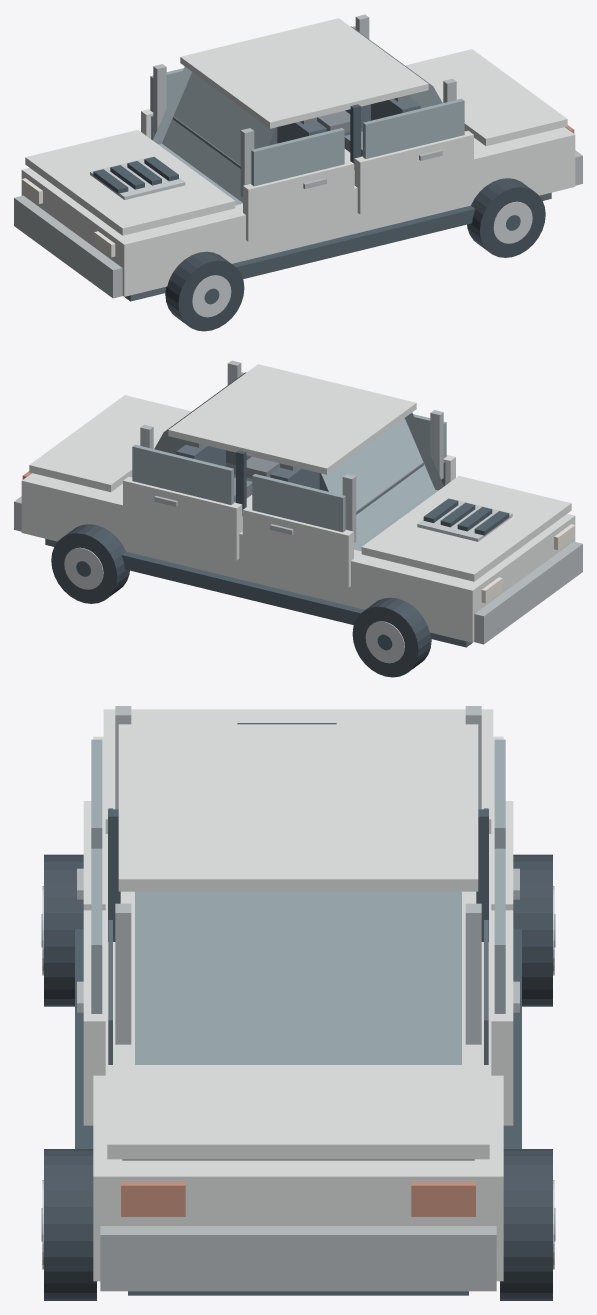
File: apex-sedan-inspection.glb
The picture shows the model from 3 angles, top to bottom: view 1: azimuth 30°, elevation 25°; view 2: azimuth 150°, elevation 25°; view 3: azimuth 270°, elevation 25°; orthographic projection. The views are drawn at different scales.
Visible parts, largest first — view 1: SURFACE_BODY, SURFACE_ROOF, SURFACE_HOOD_OUTER, WINDOW_FRONT, SURFACE_TRUNK_OUTER, SURFACE_DOOR_RL_OUTER, SURFACE_DOOR_FL_OUTER, SIDE_SILL_L, BUMPER_FRONT, WINDOW_DOOR_RL, TIRE_FL, WINDOW_DOOR_FL (+13 smaller); view 2: SURFACE_BODY, SURFACE_ROOF, SURFACE_HOOD_OUTER, WINDOW_FRONT, SURFACE_TRUNK_OUTER, SURFACE_DOOR_RR_OUTER, SURFACE_DOOR_FR_OUTER, SIDE_SILL_R, BUMPER_FRONT, WINDOW_DOOR_RR, TIRE_FR, WINDOW_DOOR_FR (+14 smaller); view 3: SURFACE_ROOF, WINDOW_REAR, SURFACE_TRUNK_OUTER, SURFACE_BODY, BUMPER_REAR, SURFACE_HOOD_OUTER, TIRE_RL, TIRE_RR, TIRE_FL, TIRE_FR, SURFACE_DOOR_RL_OUTER, SURFACE_DOOR_RR_OUTER (+15 smaller).
Part boxes in pixels (bbox=[...]): SURFACE_BODY: bbox=[21, 127, 575, 296]; SURFACE_ROOF: bbox=[180, 18, 428, 128]; SURFACE_HOOD_OUTER: bbox=[25, 130, 235, 235]; WINDOW_FRONT: bbox=[153, 66, 275, 205]; SURFACE_TRUNK_OUTER: bbox=[405, 49, 567, 146]; SURFACE_DOOR_RL_OUTER: bbox=[354, 130, 473, 214]; SURFACE_DOOR_FL_OUTER: bbox=[243, 160, 354, 241]; SIDE_SILL_L: bbox=[232, 205, 475, 278]; BUMPER_FRONT: bbox=[14, 195, 122, 298]; WINDOW_DOOR_RL: bbox=[363, 98, 464, 158]; TIRE_FL: bbox=[165, 251, 244, 331]; WINDOW_DOOR_FL: bbox=[251, 128, 344, 186]; SURFACE_BODY: bbox=[21, 473, 575, 642]; SURFACE_ROOF: bbox=[168, 364, 416, 474]; SURFACE_HOOD_OUTER: bbox=[361, 476, 571, 581]; WINDOW_FRONT: bbox=[321, 412, 443, 551]; SURFACE_TRUNK_OUTER: bbox=[29, 395, 191, 492]; SURFACE_DOOR_RR_OUTER: bbox=[123, 476, 242, 560]; SURFACE_DOOR_FR_OUTER: bbox=[242, 506, 353, 587]; SIDE_SILL_R: bbox=[121, 551, 364, 624]; BUMPER_FRONT: bbox=[474, 541, 582, 644]; WINDOW_DOOR_RR: bbox=[132, 444, 233, 504]; TIRE_FR: bbox=[352, 597, 431, 677]; WINDOW_DOOR_FR: bbox=[252, 474, 345, 532]; SURFACE_ROOF: bbox=[118, 724, 478, 891]; WINDOW_REAR: bbox=[135, 891, 461, 1064]; SURFACE_TRUNK_OUTER: bbox=[107, 1065, 489, 1159]; SURFACE_BODY: bbox=[93, 736, 503, 1281]; BUMPER_REAR: bbox=[100, 1226, 496, 1291]; SURFACE_HOOD_OUTER: bbox=[103, 709, 493, 833]; TIRE_RL: bbox=[44, 1149, 96, 1300]; TIRE_RR: bbox=[500, 1149, 552, 1300]; TIRE_FL: bbox=[44, 854, 83, 1006]; TIRE_FR: bbox=[513, 854, 552, 1006]; SURFACE_DOOR_RL_OUTER: bbox=[83, 910, 105, 1125]; SURFACE_DOOR_RR_OUTER: bbox=[491, 910, 513, 1125].
Size of the model in its own units: 4.71 by 1.68 by 2.23.
